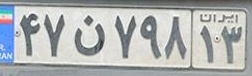character: (72, 10, 107, 59), (163, 11, 190, 66), (112, 10, 138, 60), (43, 8, 68, 59), (18, 10, 41, 59), (140, 11, 162, 61), (220, 24, 244, 65), (198, 25, 215, 64)
